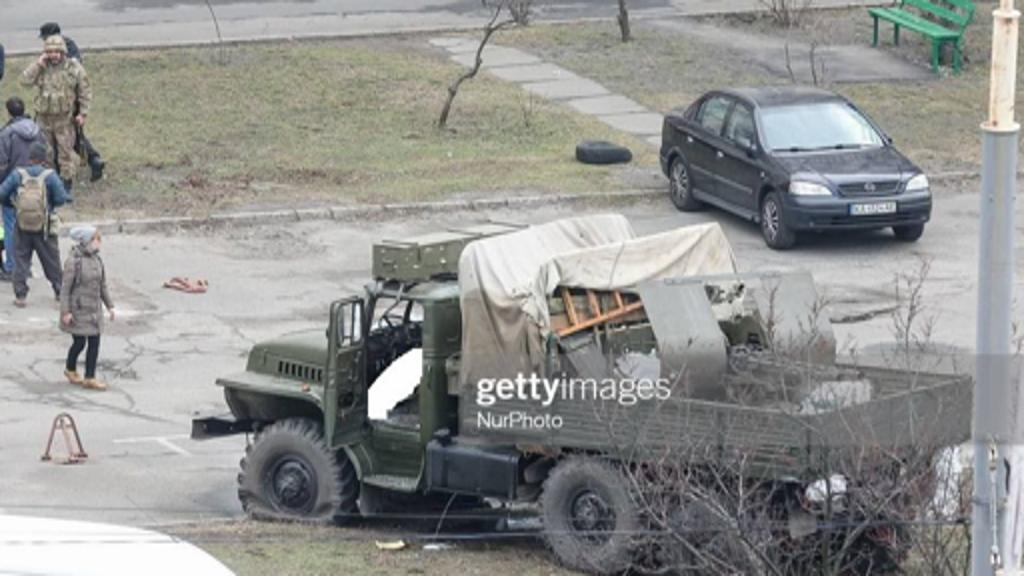CAR: (654, 78, 930, 242)
TRUCK: (198, 220, 970, 568)
